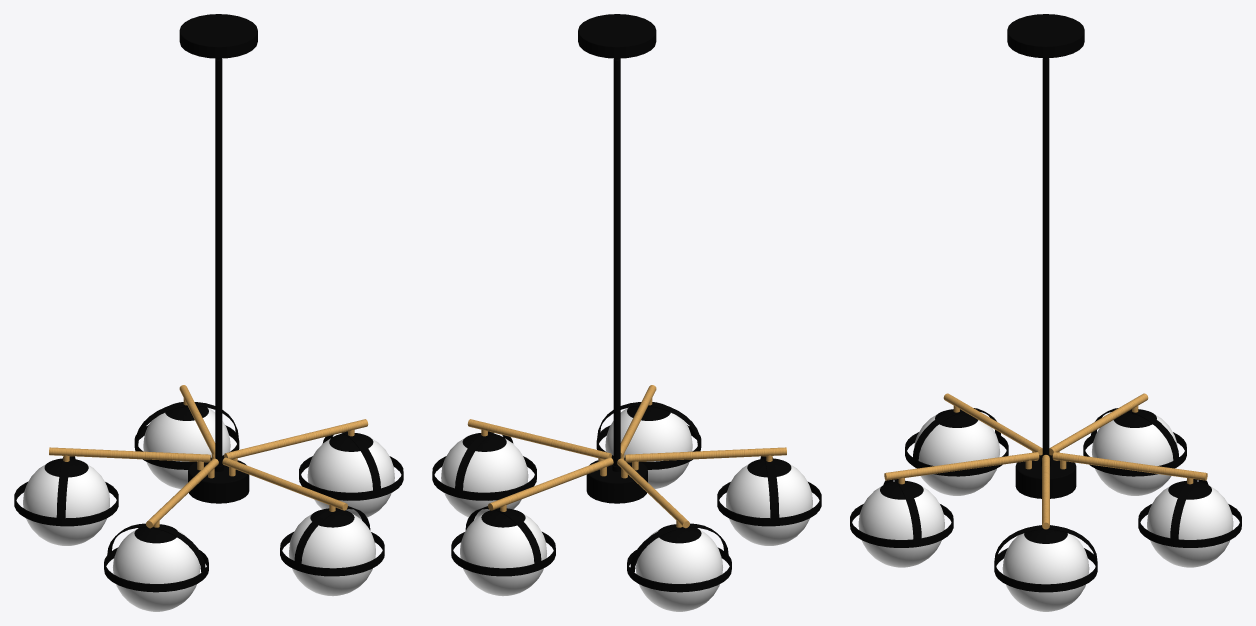
Rendered from Chandelier2.glb.
3 views of the same model, side by side, from view 1: azimuth 30°, elevation 25°; view 2: azimuth 150°, elevation 25°; view 3: azimuth 270°, elevation 25° (orthographic).
Parts seen in each view (by area): view 1: 815257_Croco_Lightstar; view 2: 815257_Croco_Lightstar; view 3: 815257_Croco_Lightstar.
Boxes of the visible parts, <box> form: 815257_Croco_Lightstar: <box>14,14,403,611</box>; 815257_Croco_Lightstar: <box>432,14,821,611</box>; 815257_Croco_Lightstar: <box>850,14,1241,611</box>.
Size of the model in its own units: 2.31 by 3.46 by 2.39.
Materials: 3 (1 with a texture image).
